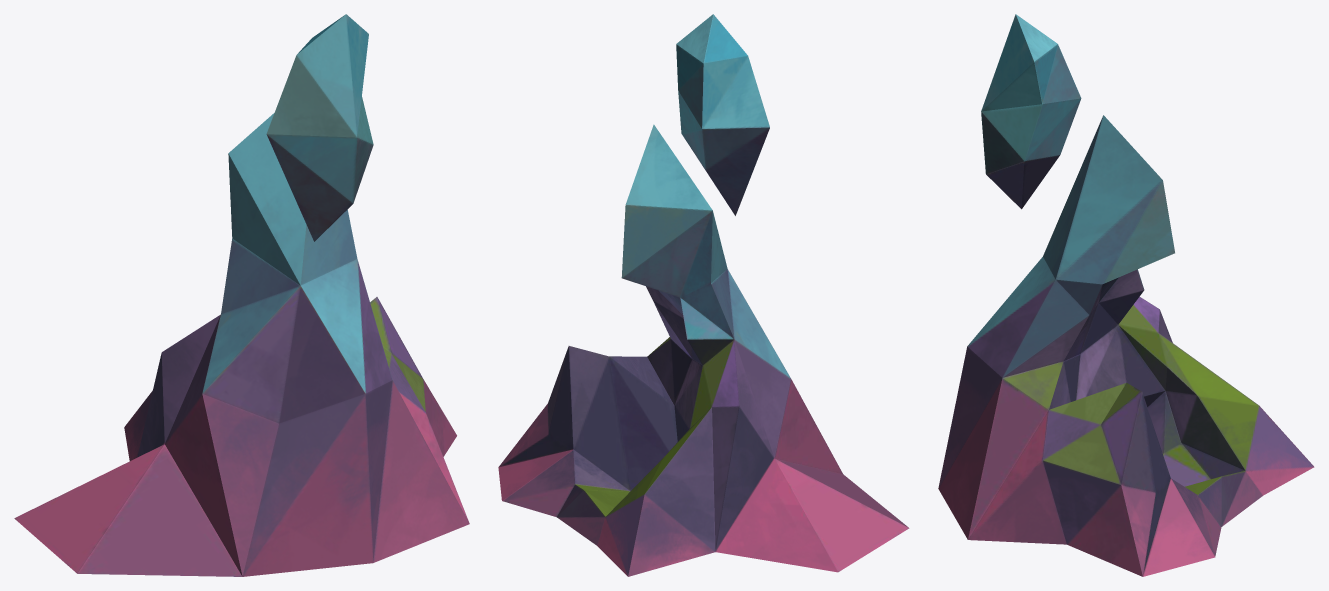
File: environ_rock_var3.fbx
The picture shows the model from 3 angles, left to right: view 1: azimuth 30°, elevation 25°; view 2: azimuth 150°, elevation 25°; view 3: azimuth 270°, elevation 25°; orthographic projection. The views are drawn at different scales.
Visible parts, largest first — view 1: environ_mtn_var3, floating_rock3; view 2: environ_mtn_var3, floating_rock3; view 3: environ_mtn_var3, floating_rock3.
Part boxes in pixels (<box>): environ_mtn_var3: <box>14,113,469,576</box>; floating_rock3: <box>266,14,373,241</box>; environ_mtn_var3: <box>498,124,909,576</box>; floating_rock3: <box>676,14,769,215</box>; environ_mtn_var3: <box>938,115,1314,576</box>; floating_rock3: <box>981,14,1081,209</box>.
Size of the model in its own units: 0.0833 by 0.0962 by 0.0681.
